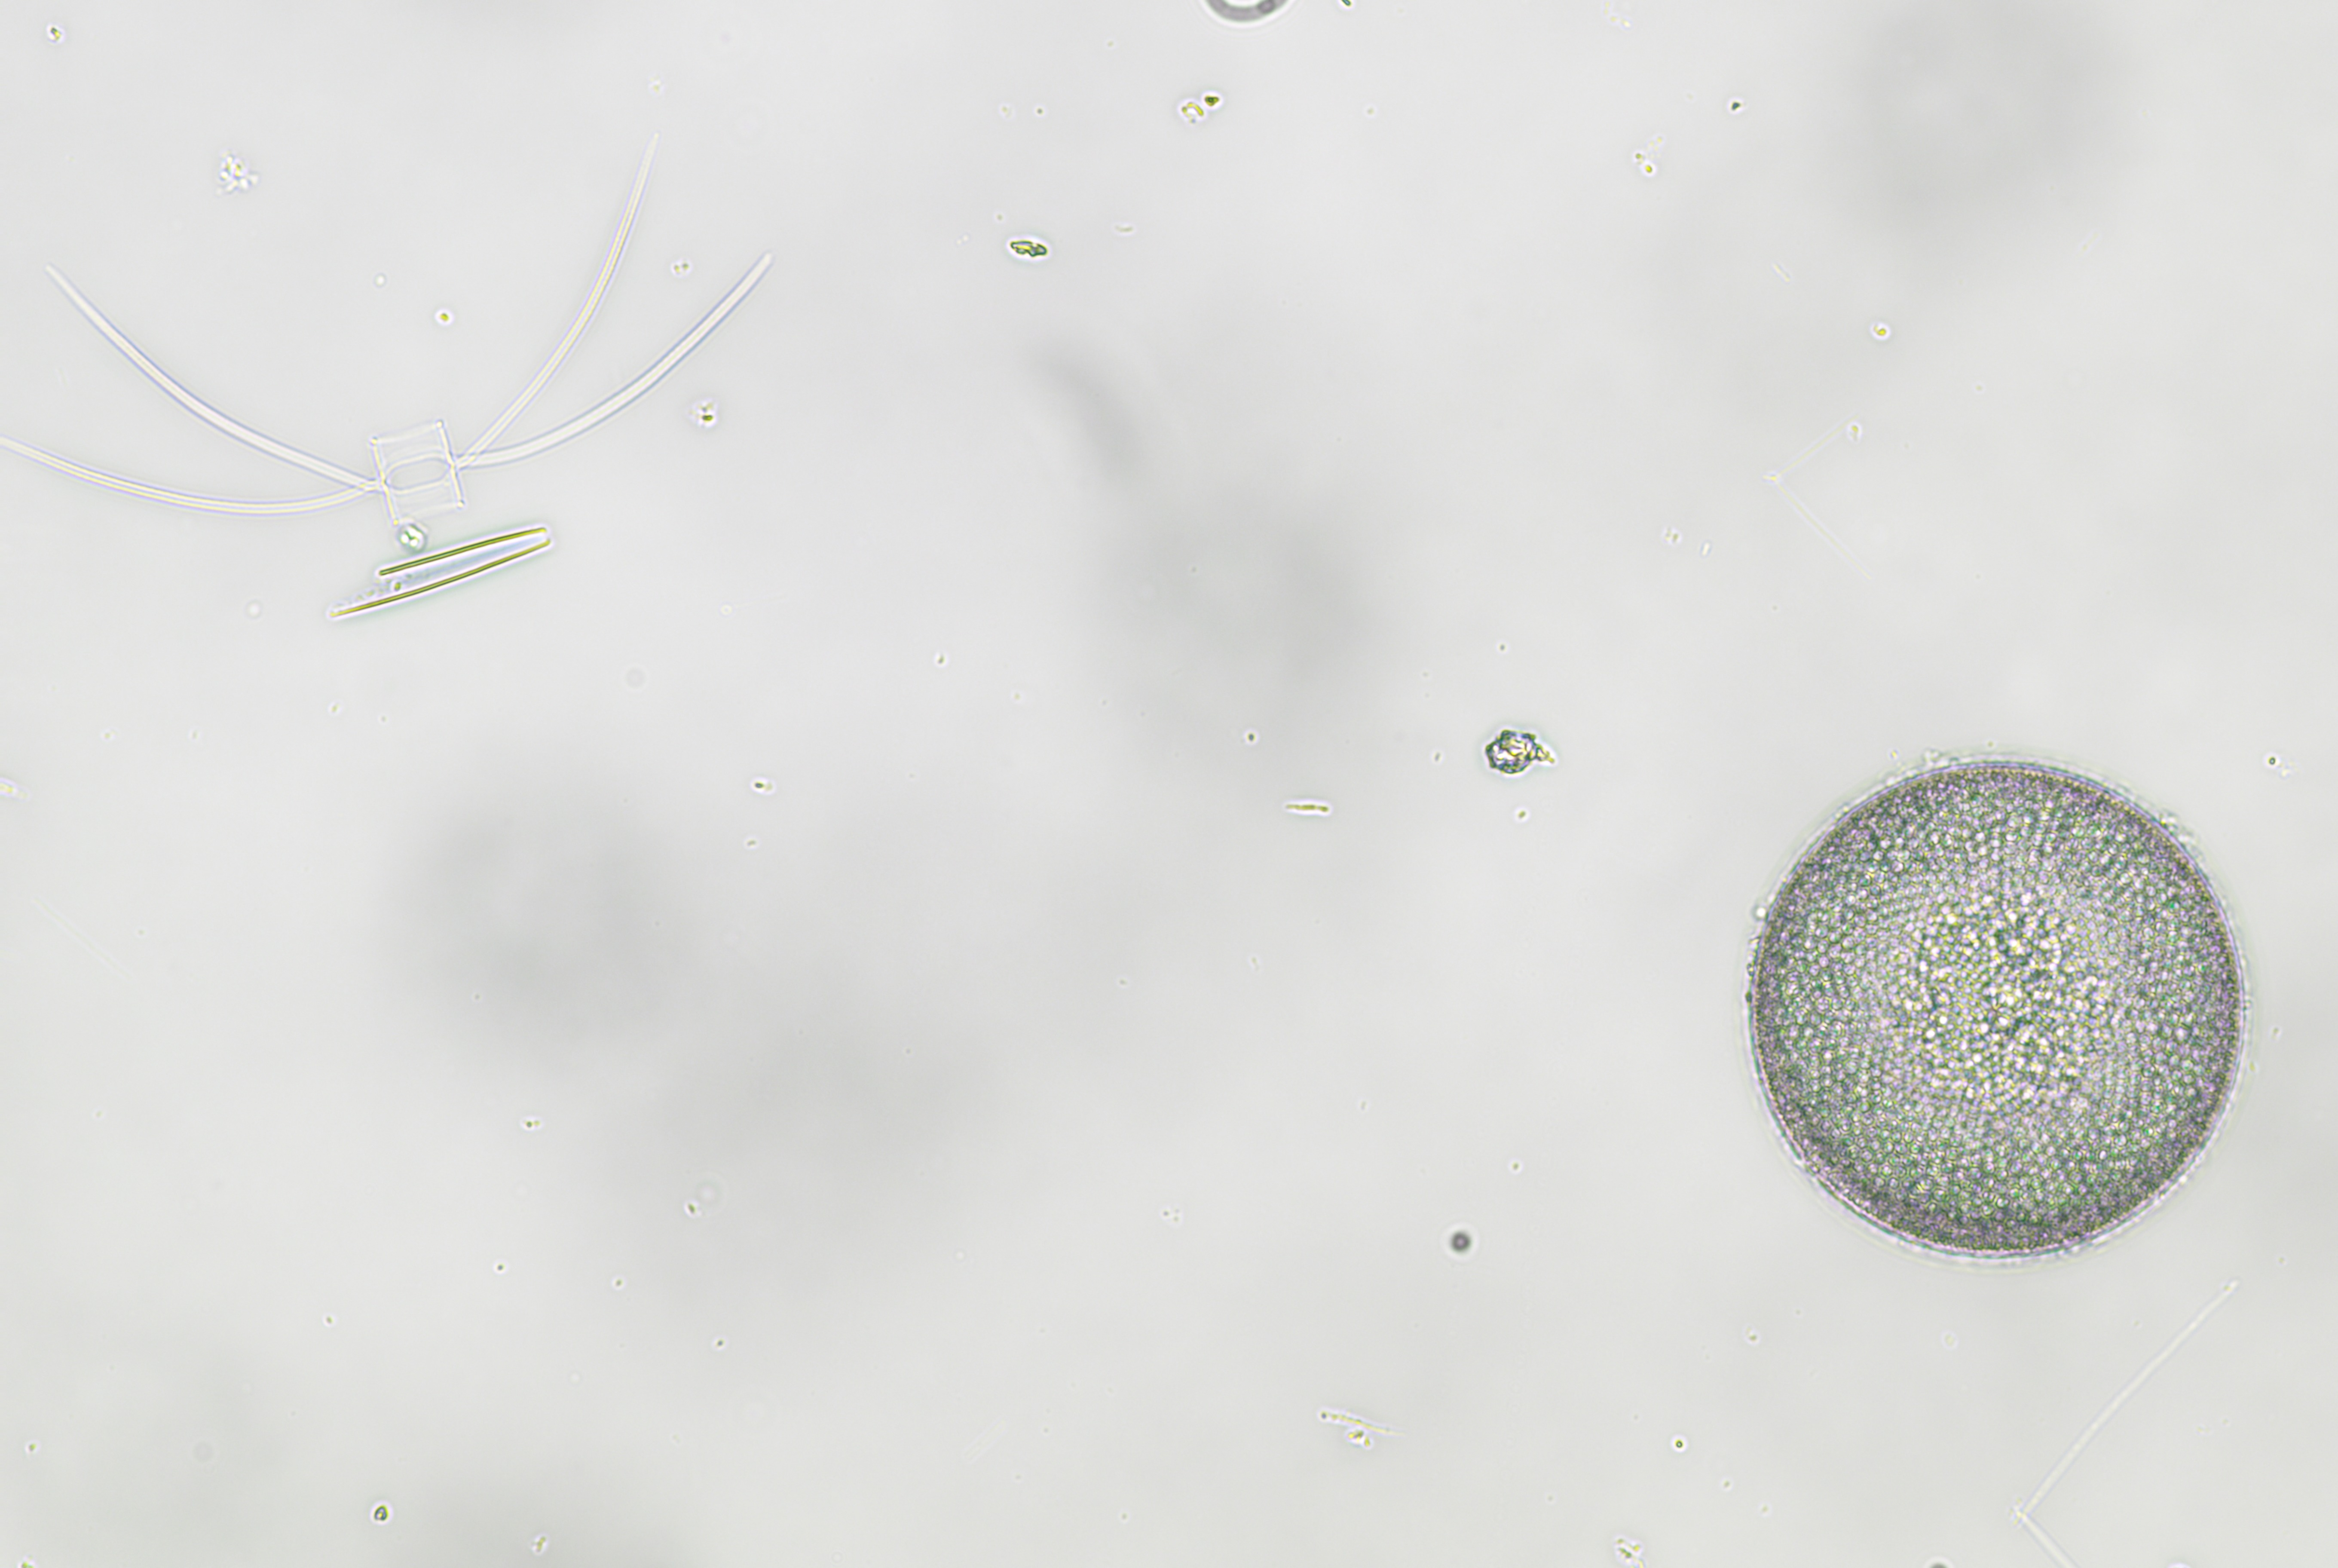chaetoceros: (5, 154, 773, 527)
coscinodiscus: (1733, 744, 2263, 1265)
